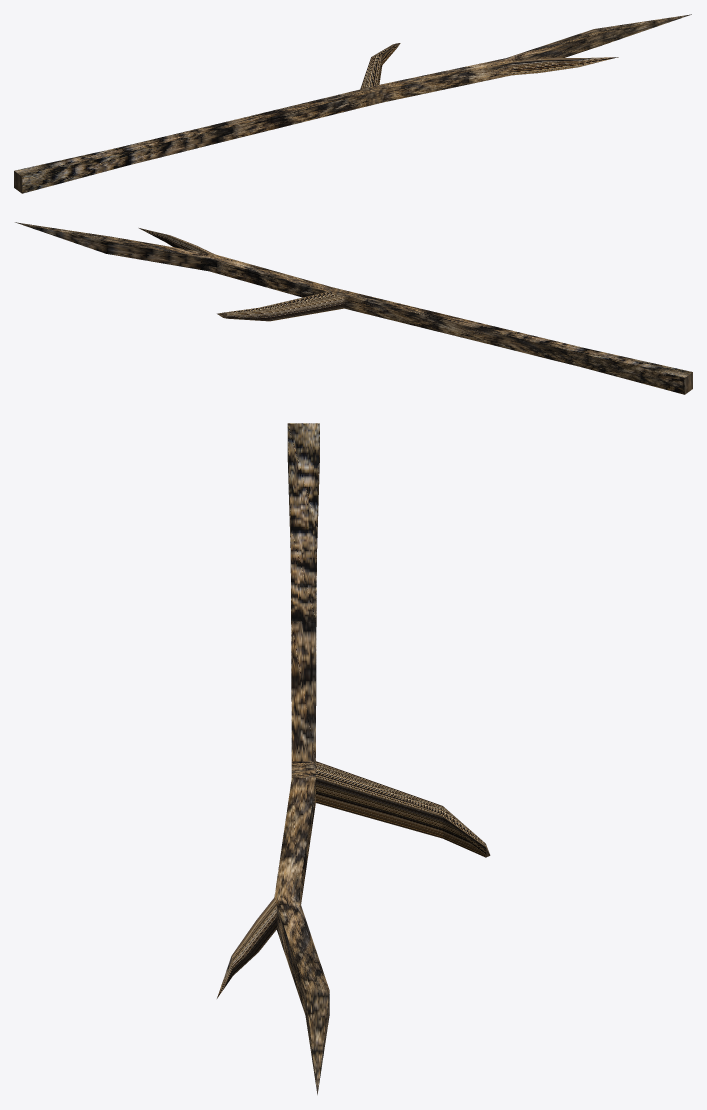
The model's file is stick.FBX.
3 views of the same model, one above another, from view 1: azimuth 30°, elevation 25°; view 2: azimuth 150°, elevation 25°; view 3: azimuth 270°, elevation 25° (orthographic). The views are drawn at different scales.
Visible parts, largest first — view 1: Box001; view 2: Box001; view 3: Box001.
Part boxes in pixels (box(x1,y1,x2,y2)): Box001: box(14, 14, 691, 193); Box001: box(15, 222, 692, 394); Box001: box(217, 423, 490, 1094).
Bounding box in the file's own units: 122 × 2.94 × 21.58.
1 material, 1 textured.
